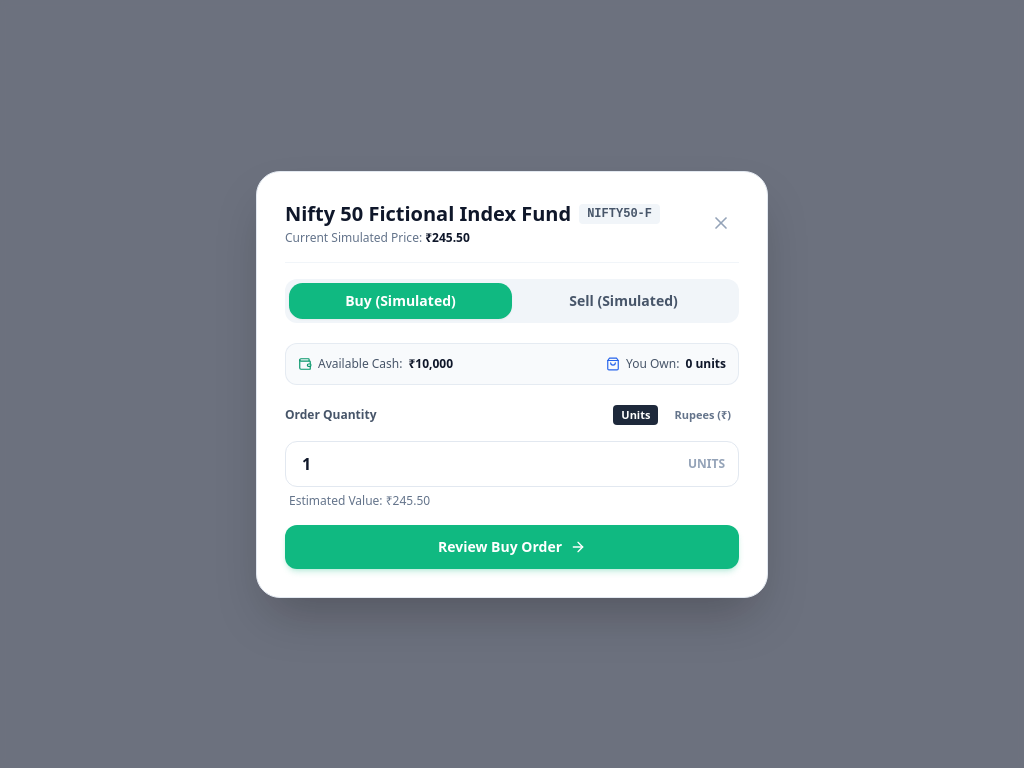
Scenario: UI Components Integration › validates OrderModal and prevents buying with quantity 0 or insufficient cash
The image size is (1024, 768).
Replace the text in the number field labelled "Order Quantity" with "0" at (512, 464), box [285,440,739,486]
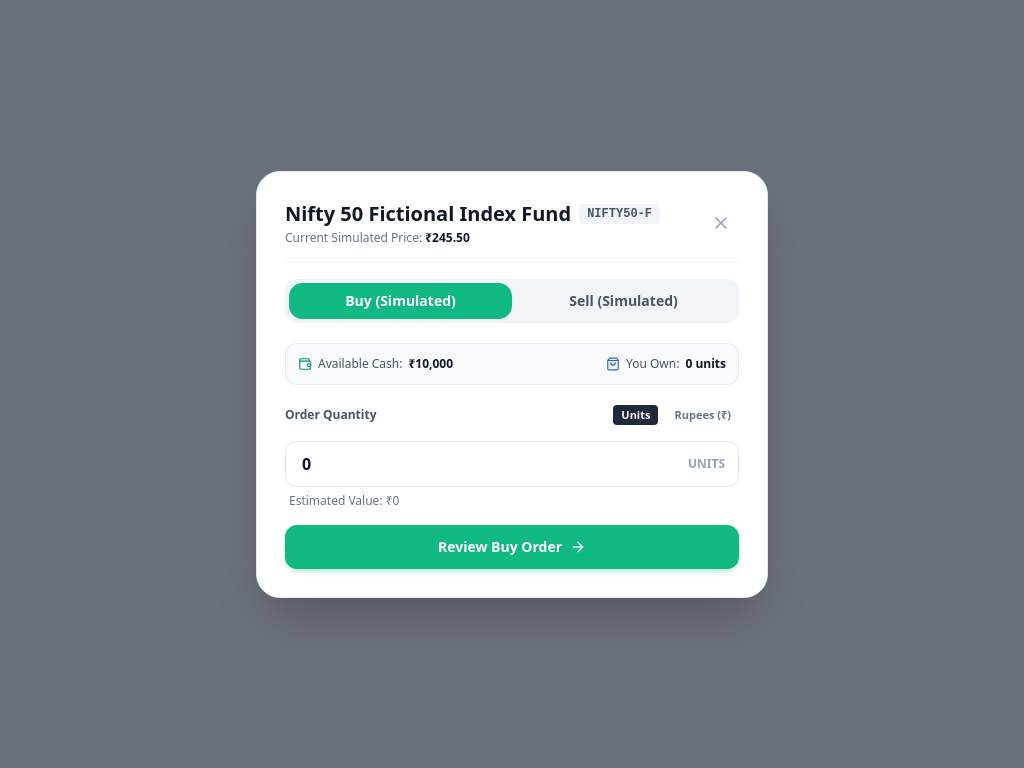
Click the button "Review Buy Order".
click(512, 546)  # box [285,524,739,568]
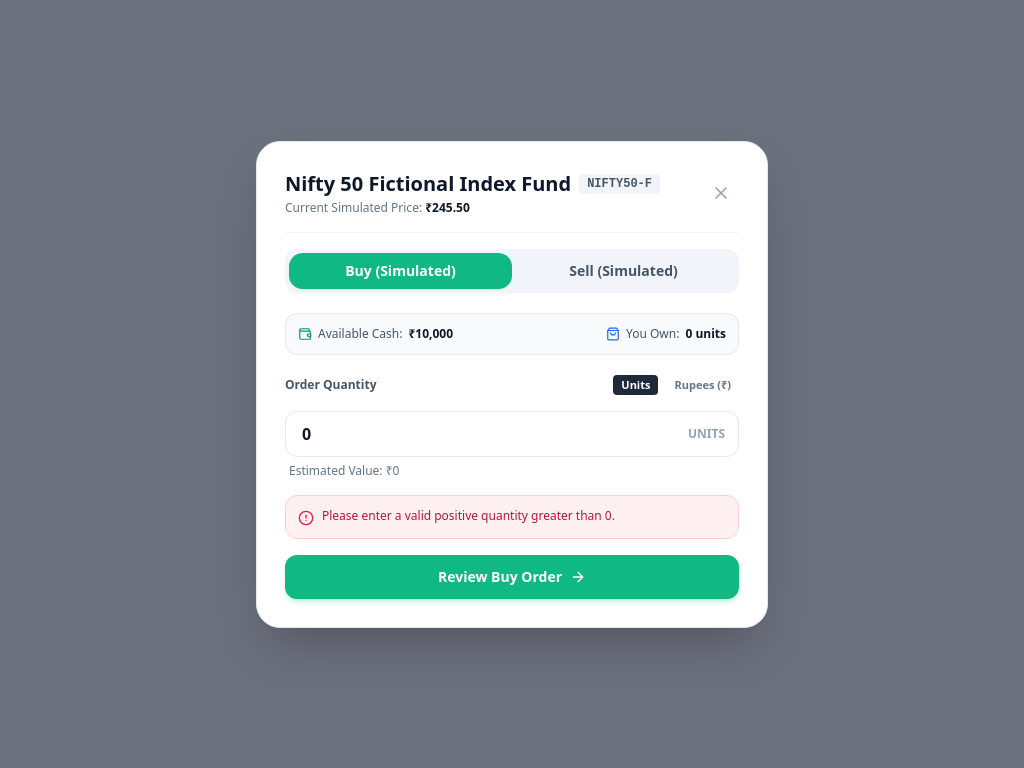
Expected: the text "Please enter a valid positive quantity greater than 0." is shown, [322,508,615,524]
